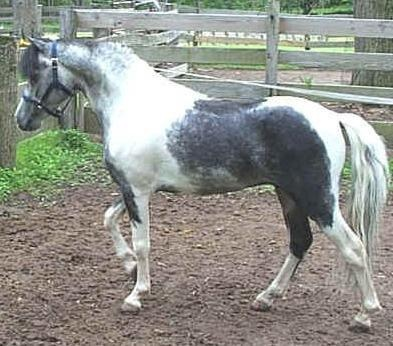horse: (15, 37, 390, 335)
